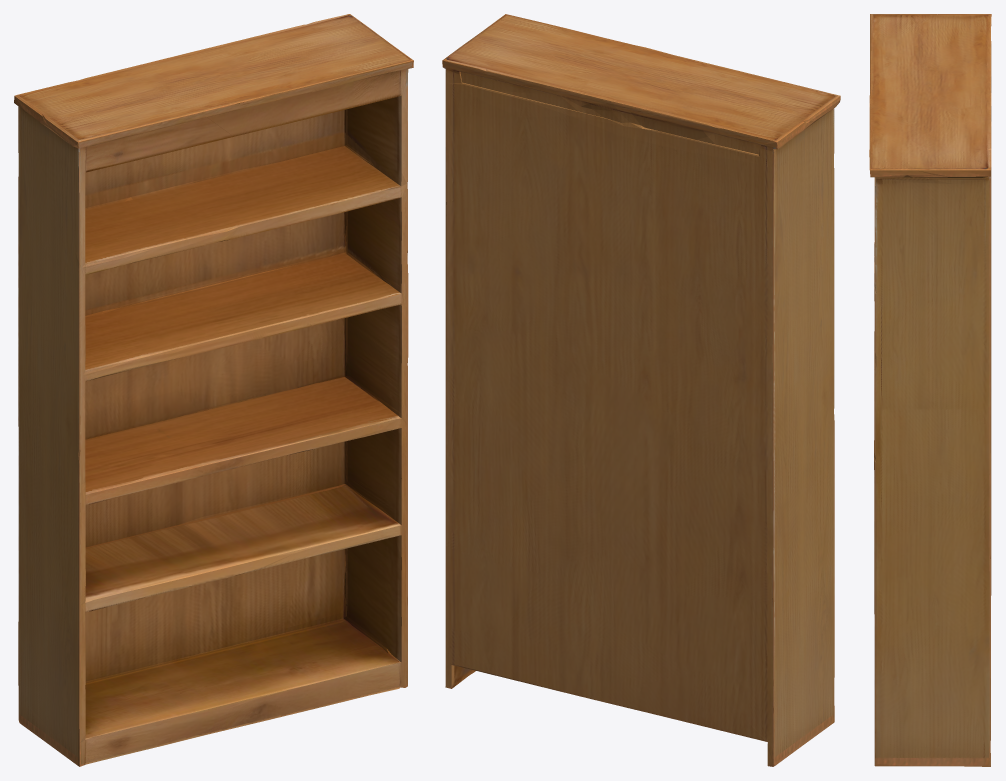
File: 1950_s_cartoonish_m_0401222834_texture.fbx
3 views of the same model, side by side, from view 1: azimuth 30°, elevation 25°; view 2: azimuth 150°, elevation 25°; view 3: azimuth 270°, elevation 25° (orthographic). The views are drawn at different scales.
Parts seen in each view (by area): view 1: temp; view 2: temp; view 3: temp.
Part boxes in pixels (x1,y1,x2,y2): temp: [14, 14, 413, 766]; temp: [442, 14, 840, 766]; temp: [869, 14, 991, 766].
Bounding box in the file's own units: 112 × 200 × 37.
Materials: 1 (1 with a texture image).
